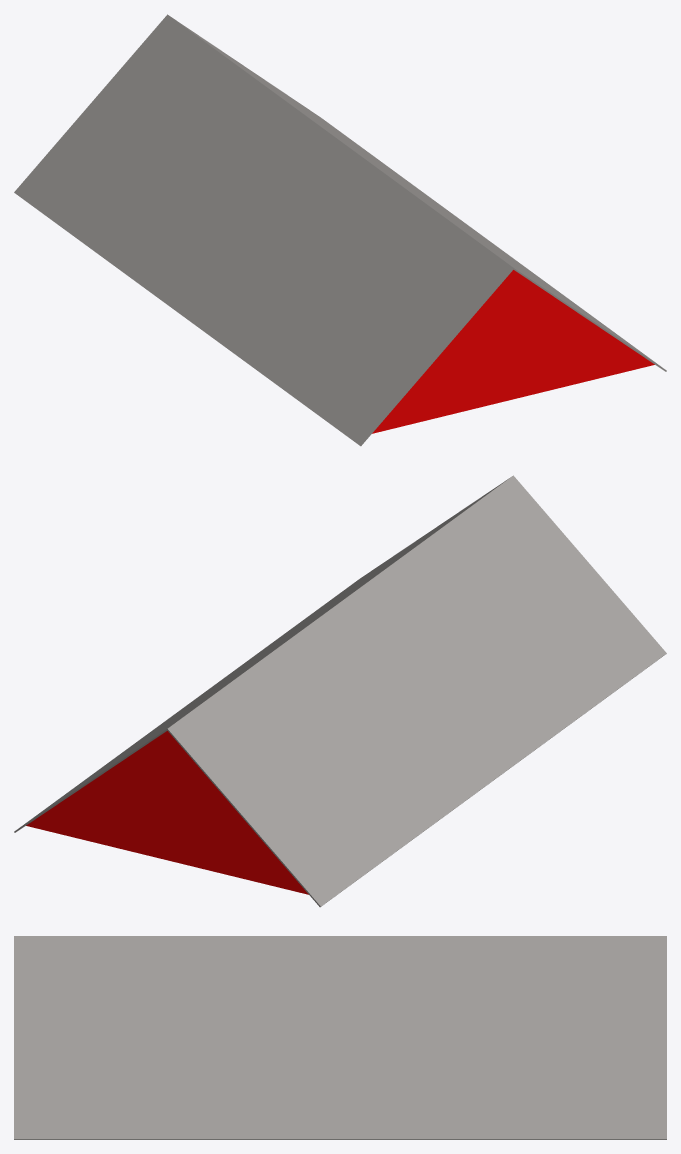
File: BigRoof.fbx
The picture shows the model from 3 angles, top to bottom: view 1: azimuth 30°, elevation 25°; view 2: azimuth 150°, elevation 25°; view 3: azimuth 270°, elevation 25°; orthographic projection. The views are drawn at different scales.
Parts seen in each view (by area): view 1: BigRoof; view 2: BigRoof; view 3: BigRoof.
Part boxes in pixels (x1=…): BigRoof: x1=14, y1=14, x2=666, y2=446; BigRoof: x1=14, y1=475, x2=666, y2=907; BigRoof: x1=14, y1=936, x2=666, y2=1139.
Bounding box in the file's own units: 1680 × 741 × 3280.
